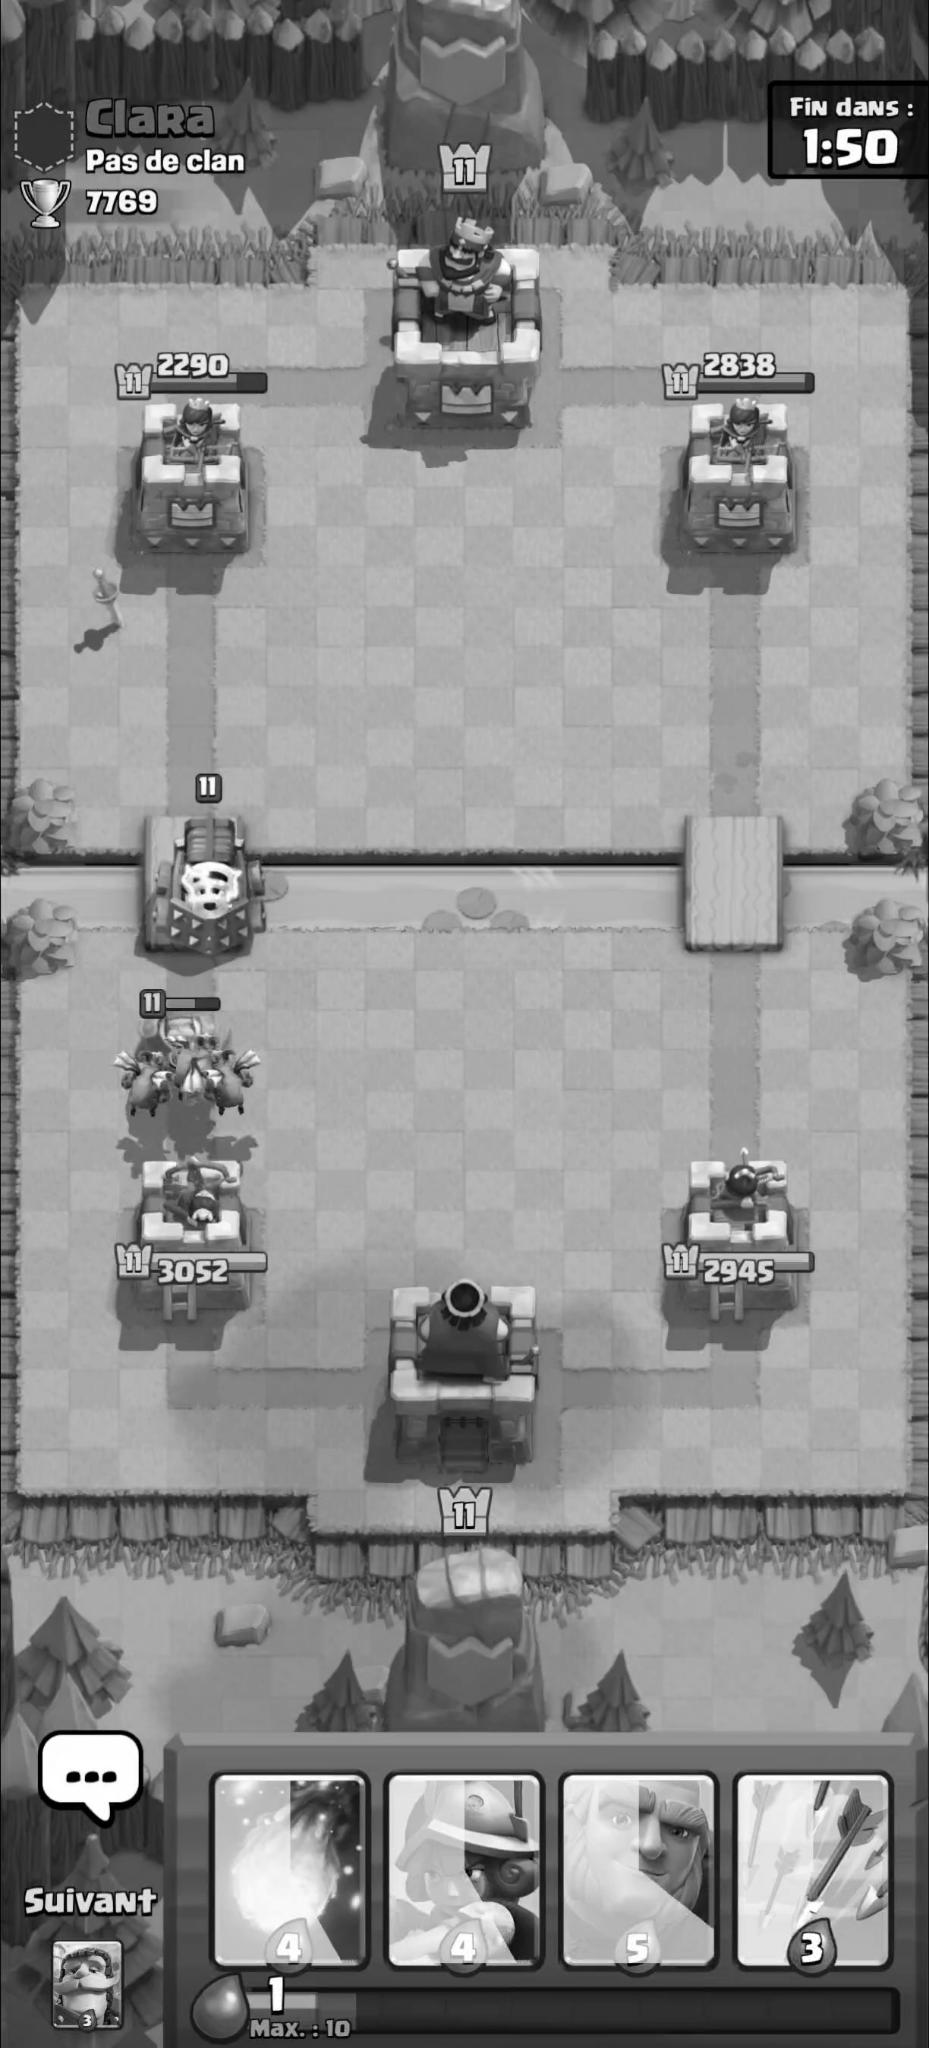chevalier: (141, 1010, 220, 1105)
gargouille: (115, 1051, 174, 1125), (201, 1050, 264, 1117), (165, 1034, 218, 1097)
zappy: (155, 815, 267, 959)
